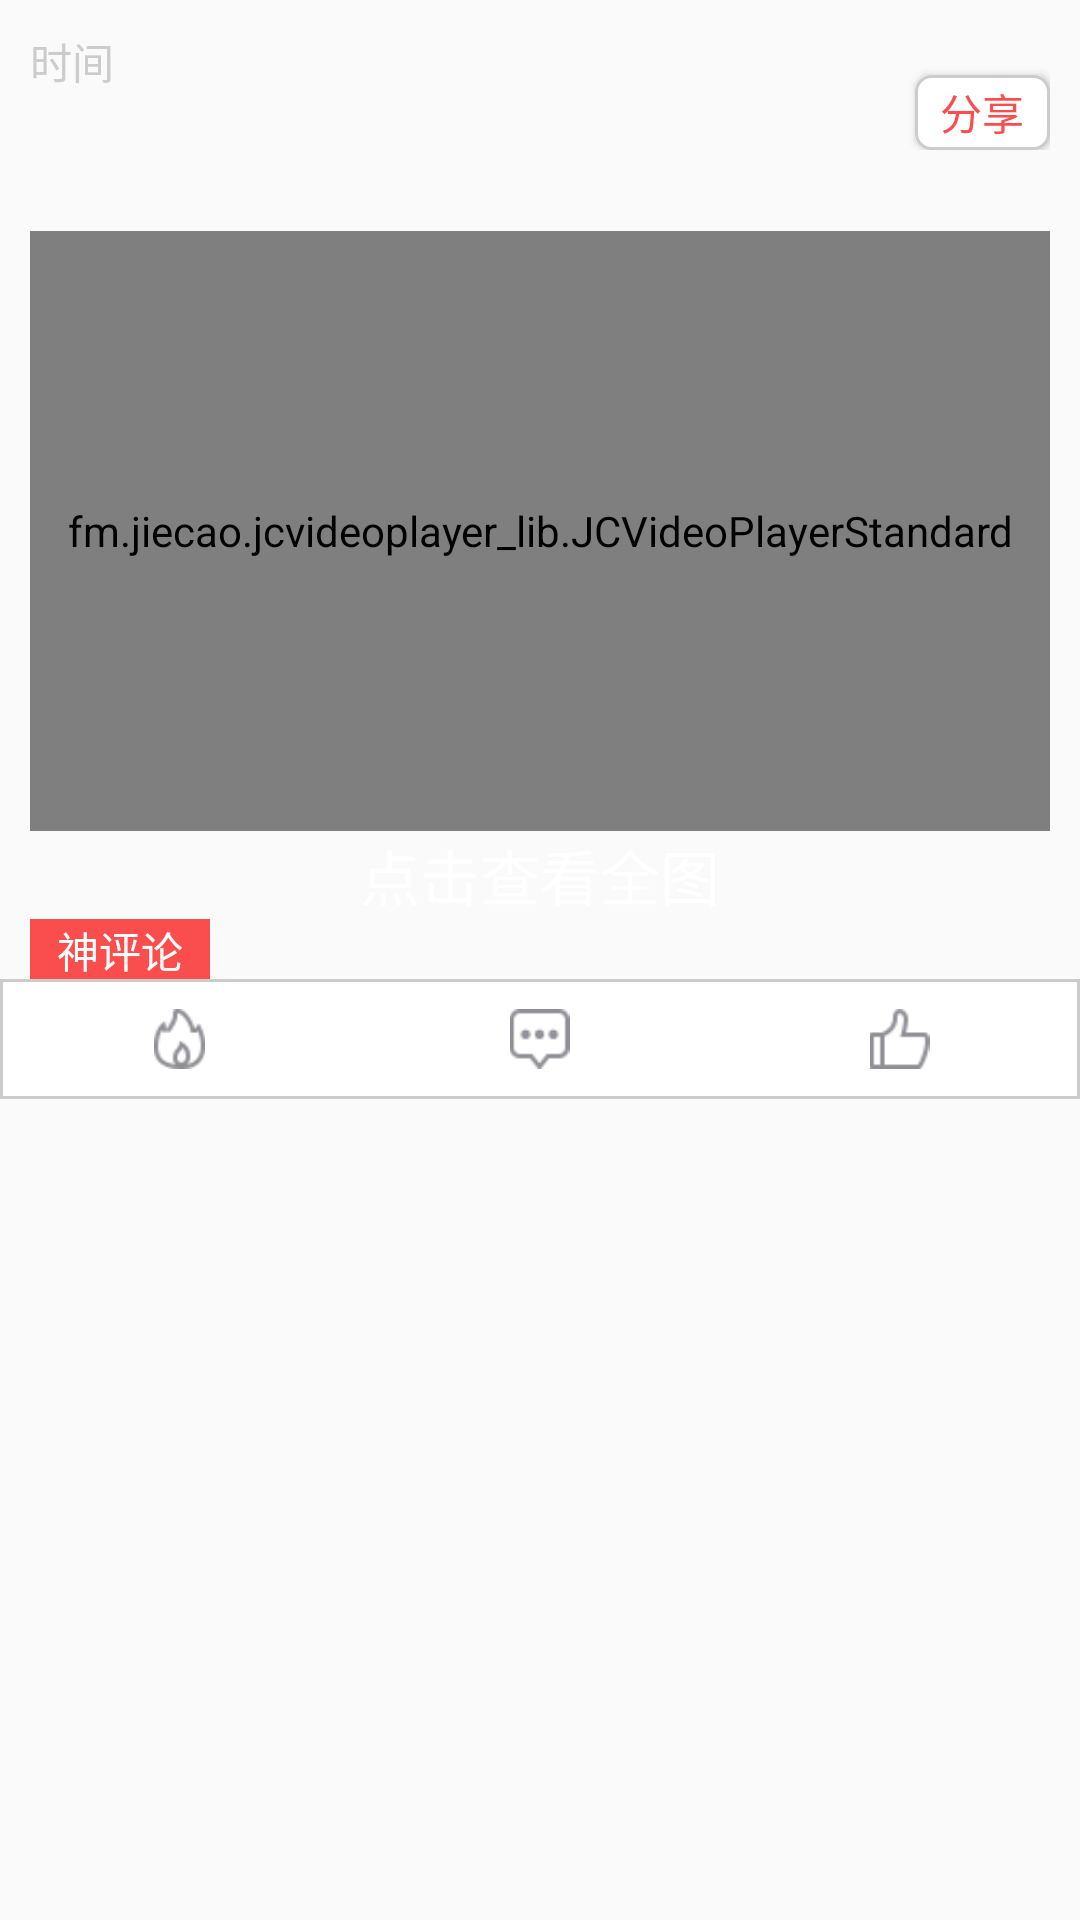

Where icons sit on this 1080px×1920px app screen, as region(x1, y1, x2, y2):
comment count: region(510, 1009, 570, 1069)
hot point: region(154, 1009, 205, 1069)
nice comment: region(870, 1009, 930, 1069)
